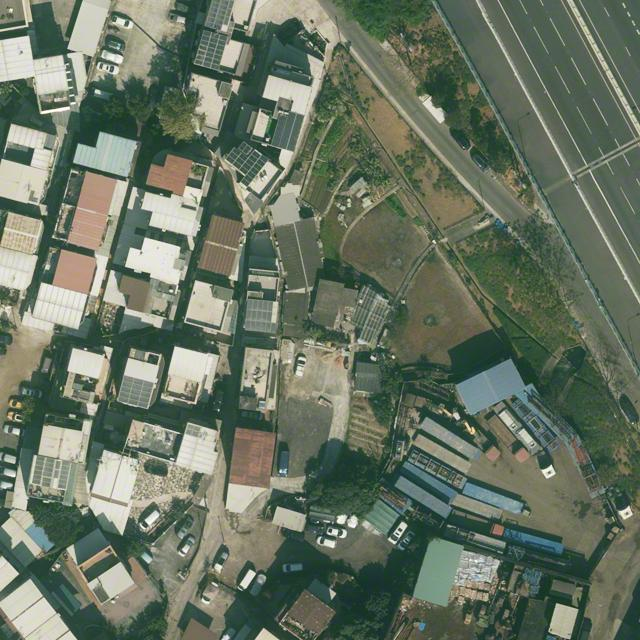panel: (194, 30, 228, 70), (117, 376, 155, 409), (278, 110, 305, 153), (240, 154, 269, 187), (244, 299, 273, 332), (205, 2, 229, 31), (270, 114, 288, 146), (239, 150, 261, 176), (226, 147, 248, 170), (41, 457, 55, 488), (32, 455, 46, 485), (58, 460, 71, 489), (52, 459, 63, 479), (238, 141, 253, 155), (223, 8, 232, 25), (270, 322, 277, 333)
